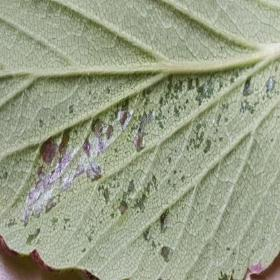Angular Leafspot: (0, 55, 279, 279)
